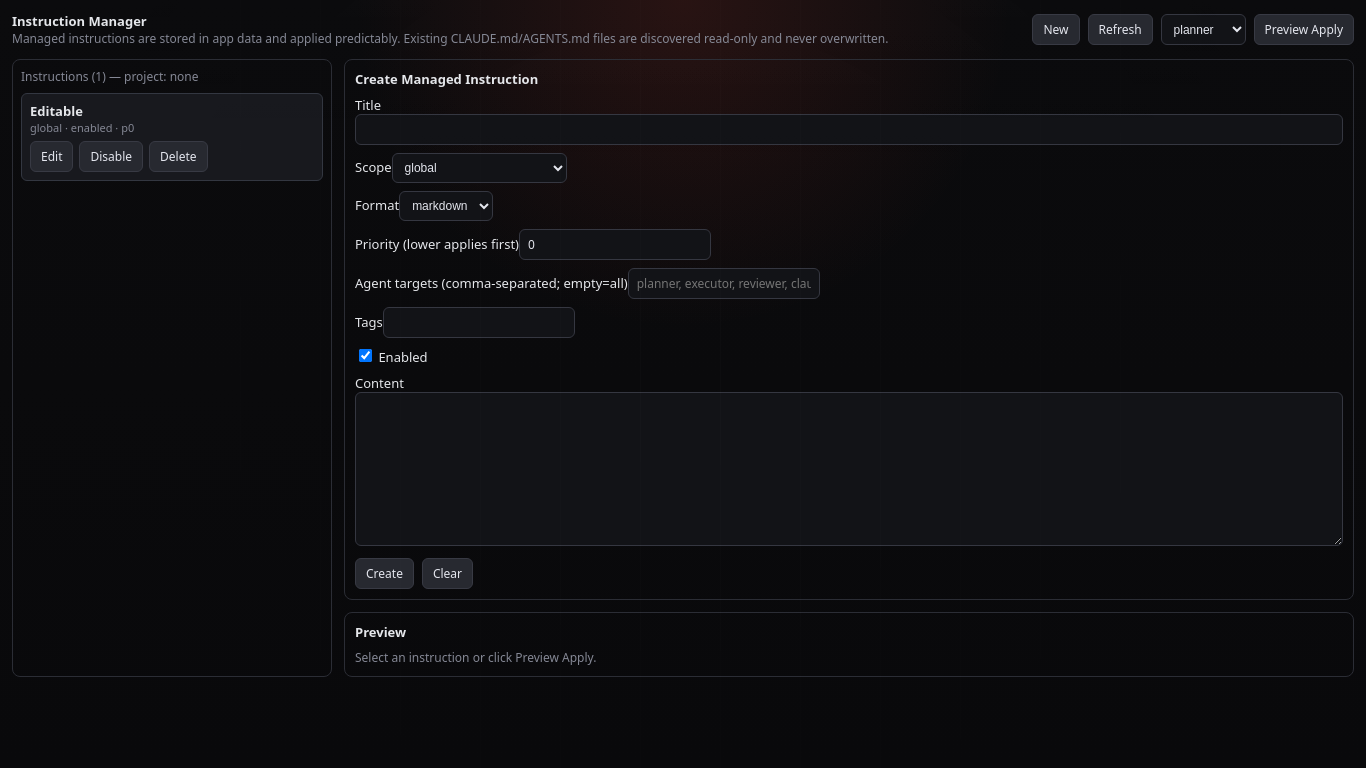
it: InstructionManager › edits an existing instruction
Expected: the text "Editable" is shown, [30, 102, 83, 120]
Click the button "Edit" at (52, 156), box [30, 141, 74, 172]
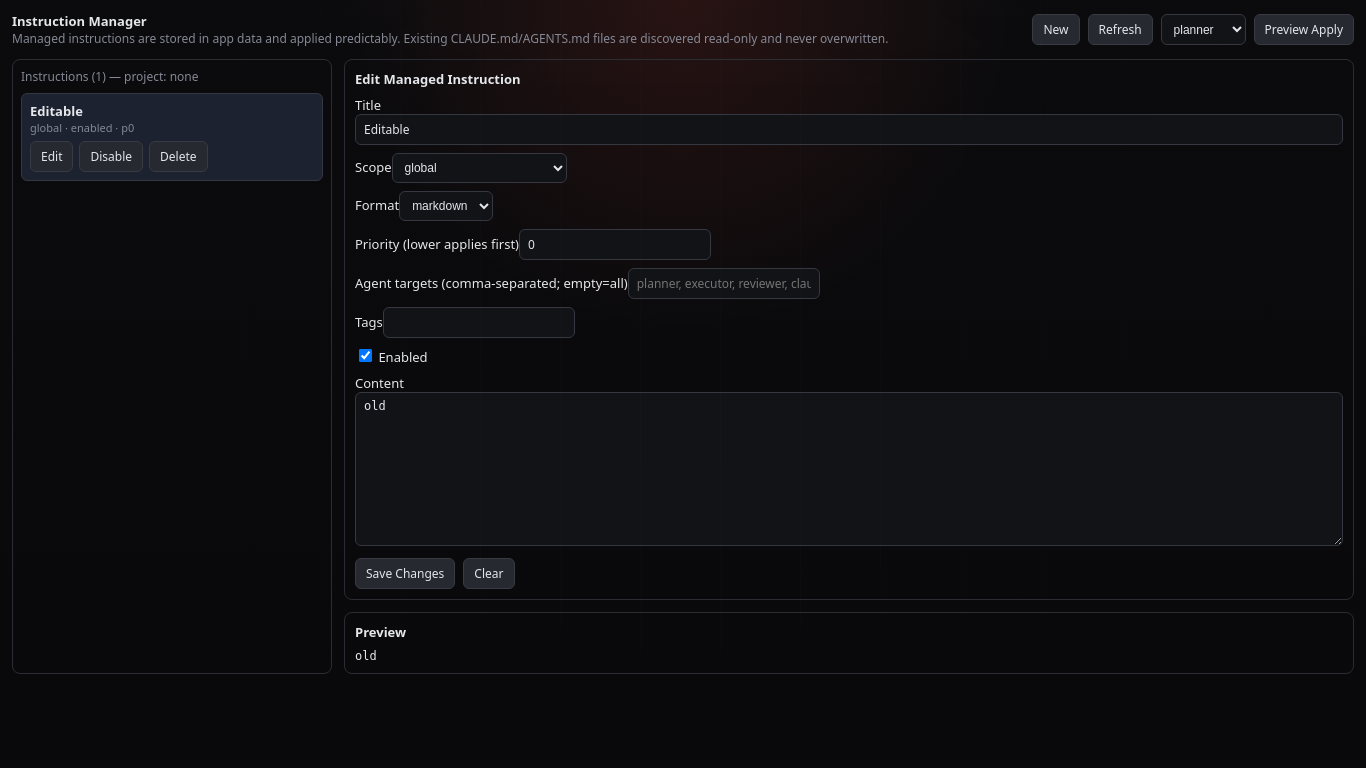
Replace the text in the text box showing "old" with "new content" at (849, 469), box [355, 392, 1343, 546]
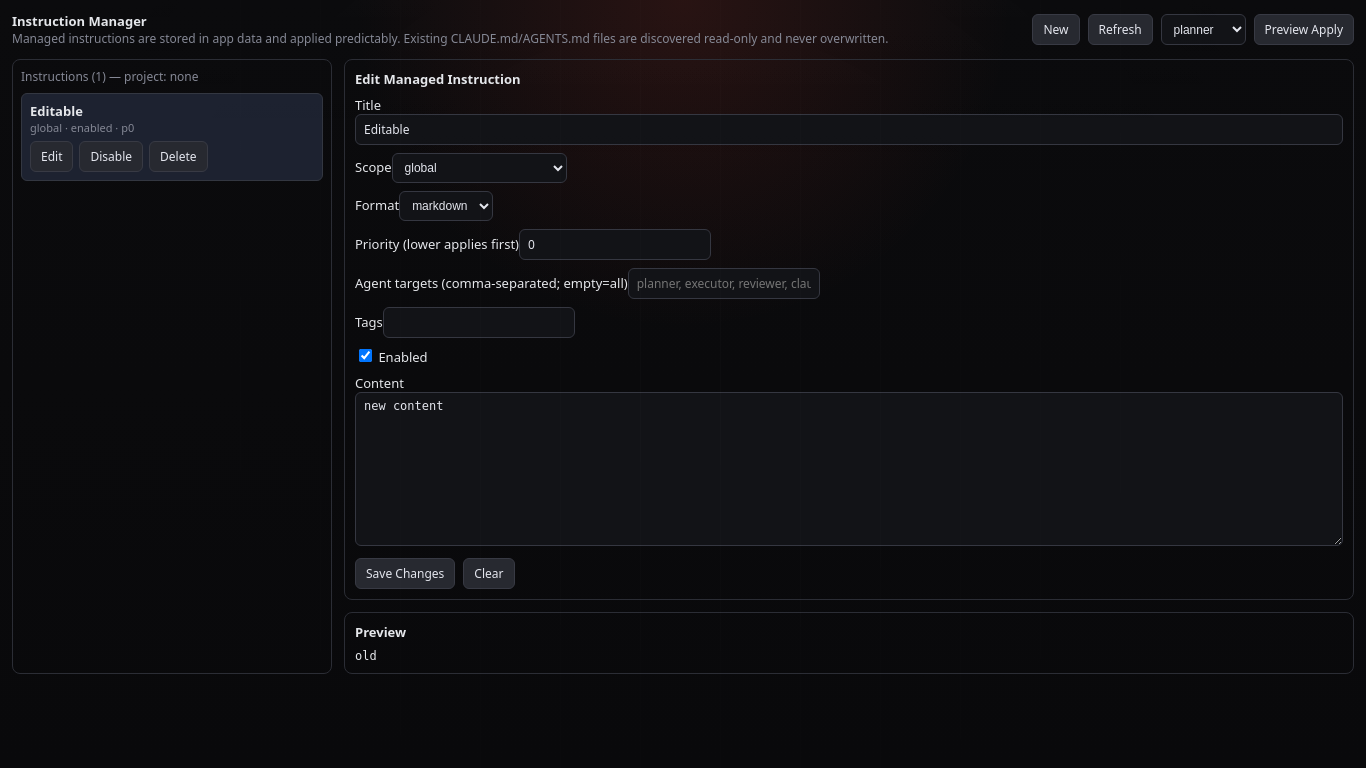
Click the button "Save Changes" at (405, 574), box [355, 558, 455, 589]
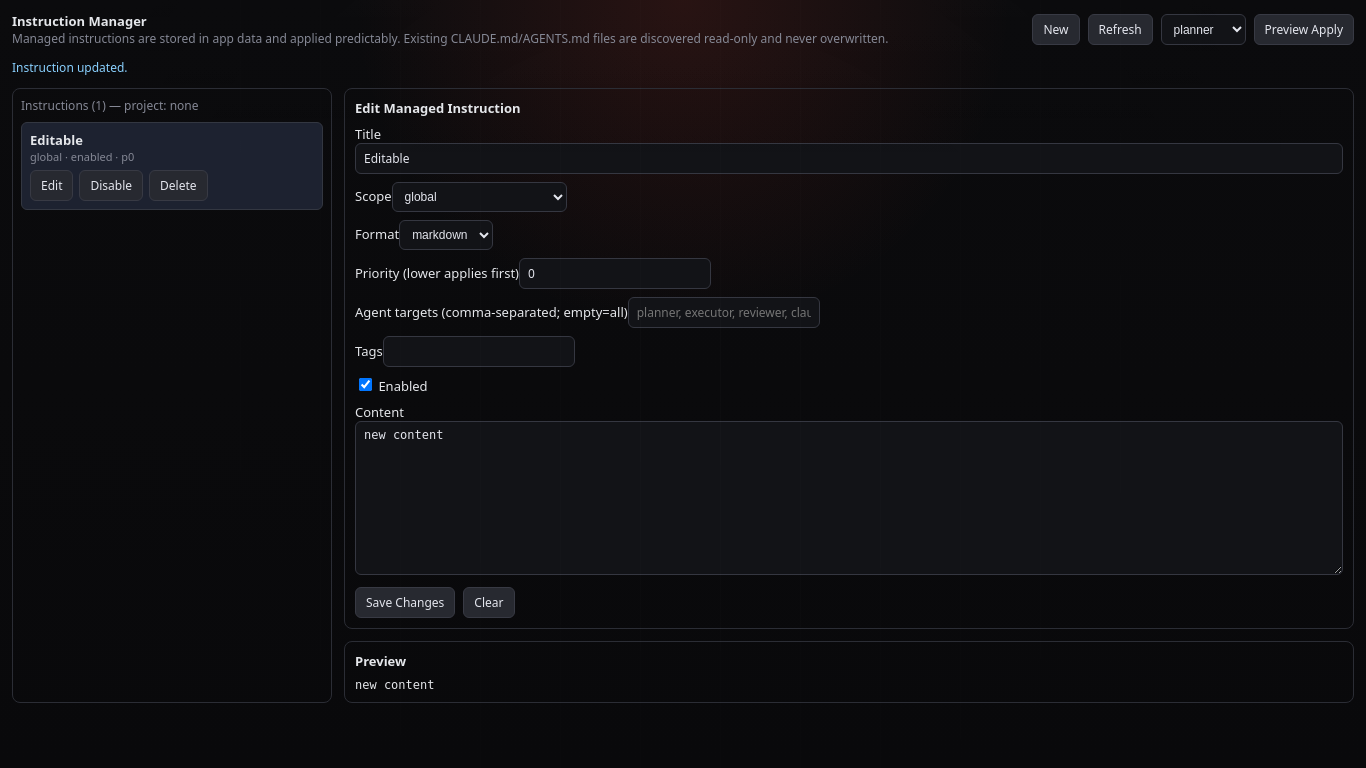
Expected: the text "Instruction updated." is shown, [12, 59, 128, 76]
